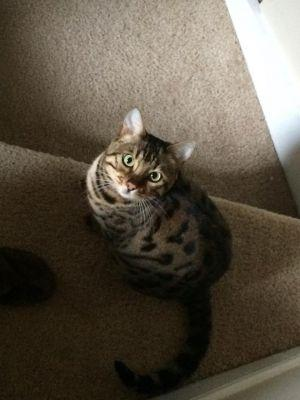bengal: (90, 101, 205, 213)
